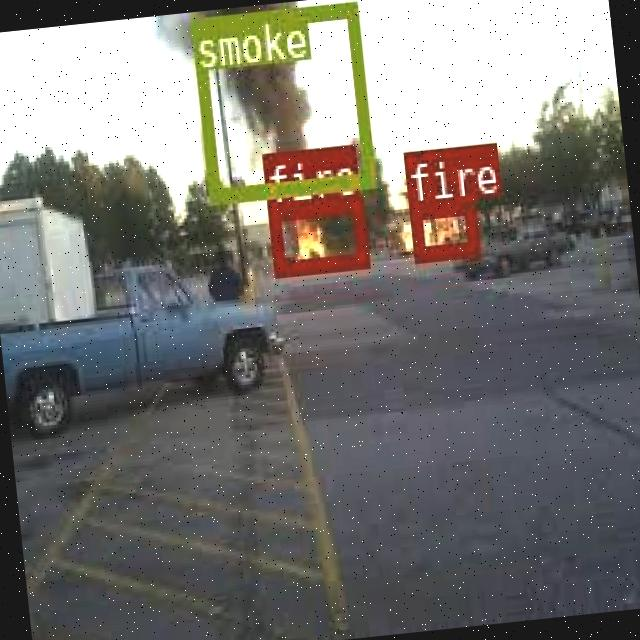fire: (266, 194, 366, 275), (406, 196, 477, 258)
smoke: (188, 0, 374, 202)
